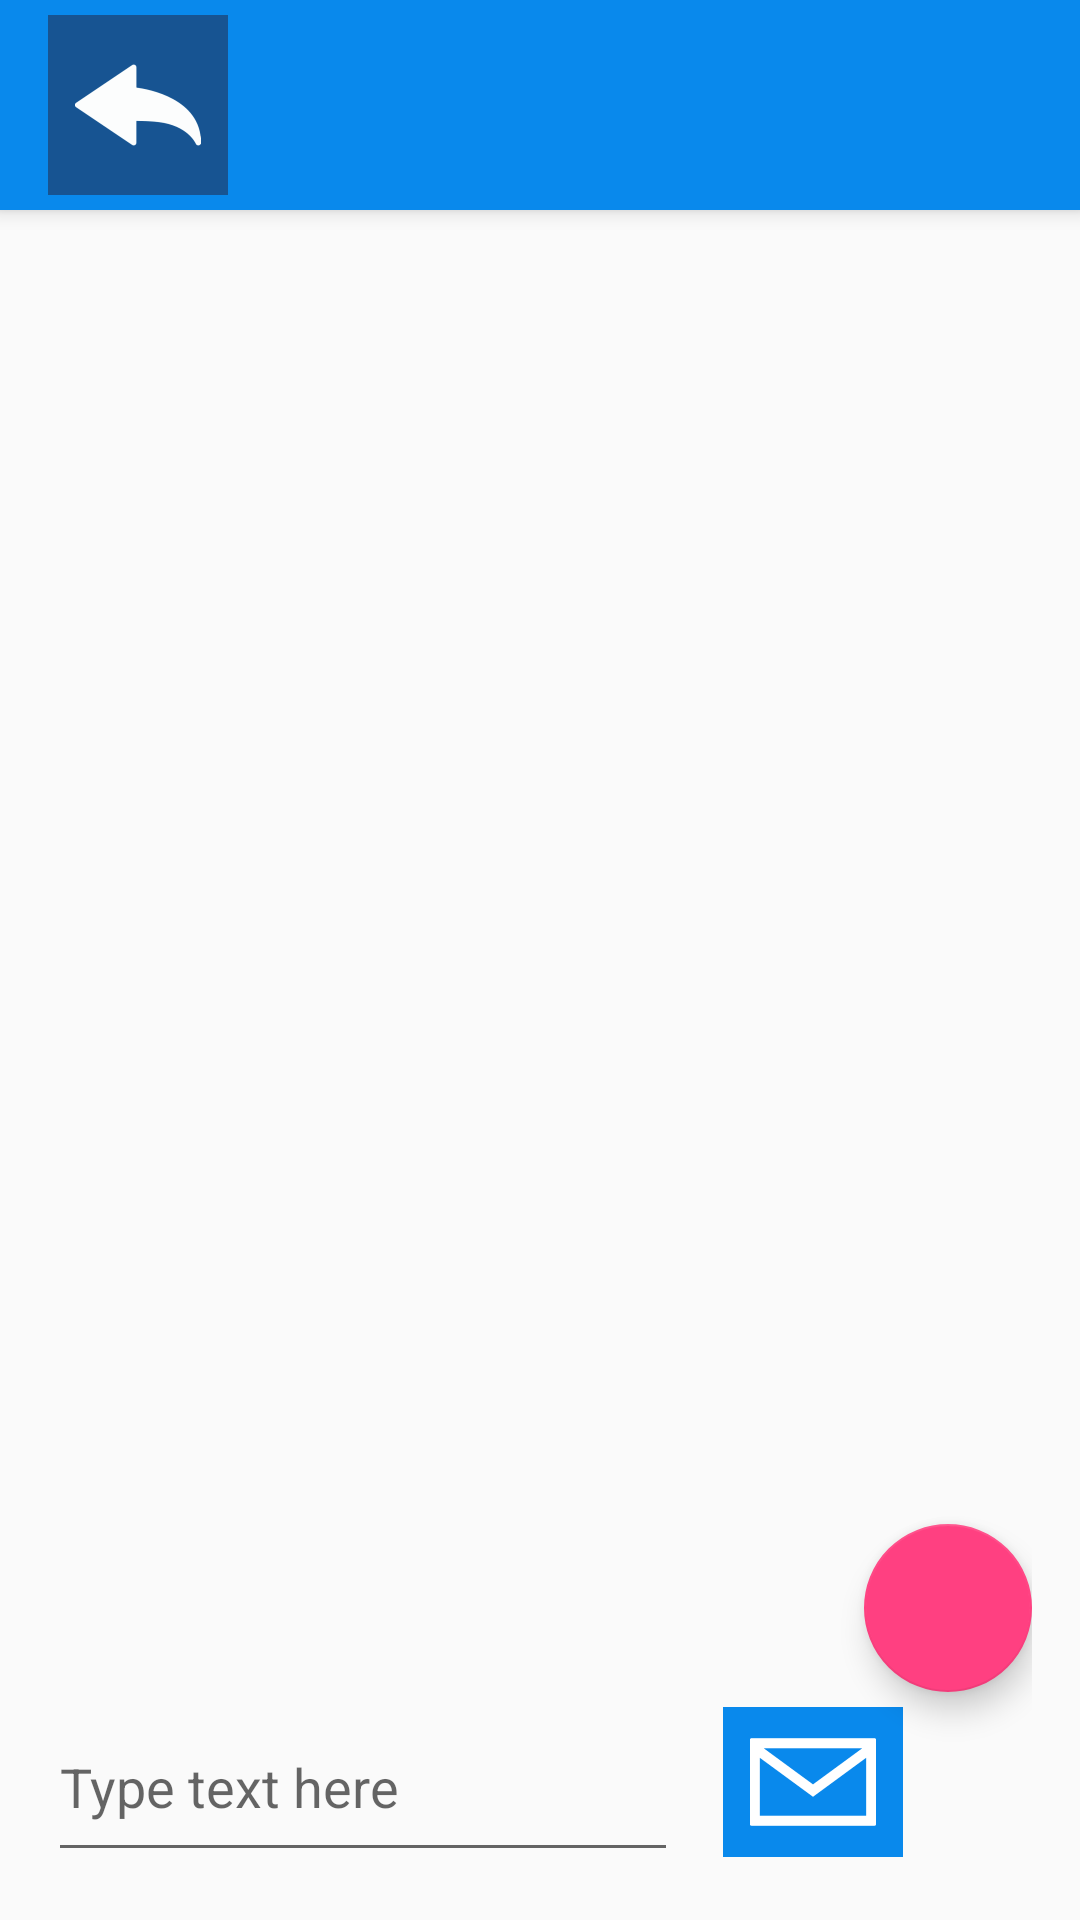

Icons on this 1080px×1920px Android screen, each with its box as bbox(x1, y1, x2, y2):
back: bbox(48, 15, 228, 195)
message: bbox(723, 1707, 903, 1857)
